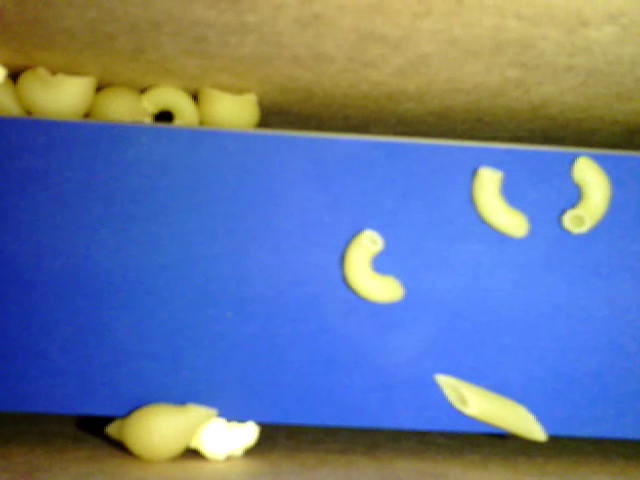elbow: (341, 228, 405, 303), (473, 165, 531, 238), (562, 156, 613, 235), (143, 83, 198, 126)
penne: (432, 369, 547, 442)
shell: (105, 401, 218, 462), (16, 66, 98, 118), (196, 87, 259, 132), (86, 85, 151, 125)
